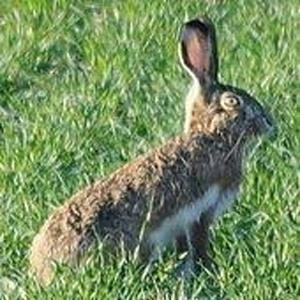rabbit: (31, 17, 274, 283)
